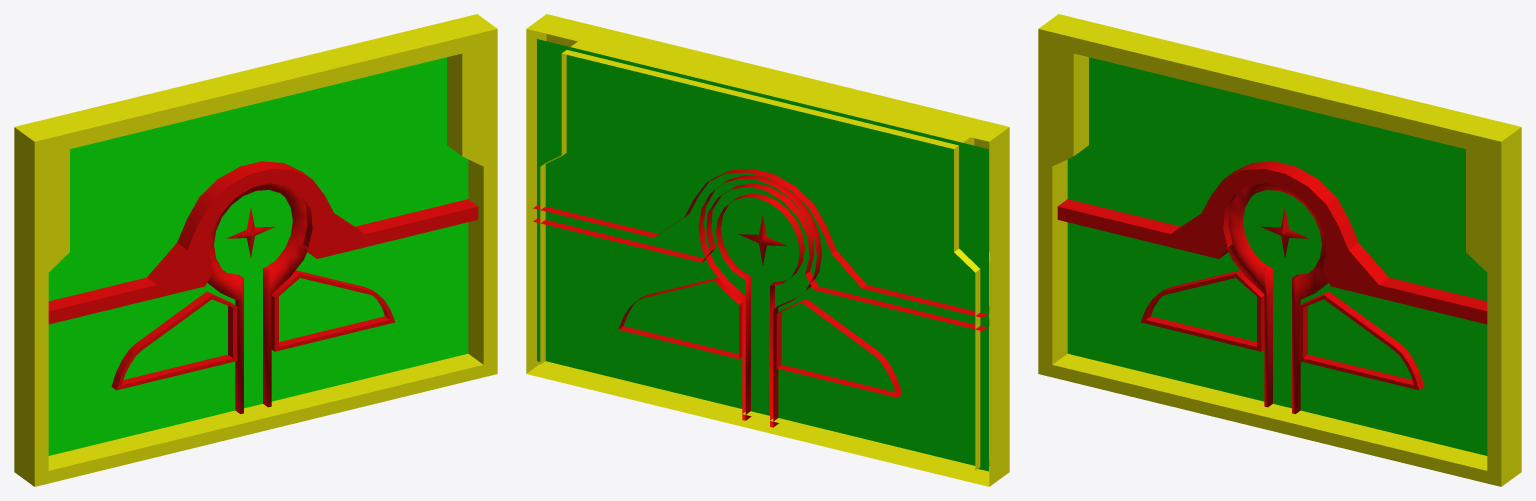
The model's file is hero_Piltover_Wall_Window.fbx.fbx.
3 renders of one model, left to right at view 1: azimuth 30°, elevation 25°; view 2: azimuth 150°, elevation 25°; view 3: azimuth 330°, elevation 25°, orthographic.
Parts seen in each view (by area): view 1: WindowPanel, Frame2, Frame5, Frame3, Frame4; view 2: WindowPanel, Frame2, Frame5, Frame4, Frame3; view 3: WindowPanel, Frame2, Frame5, Frame3, Frame4.
Boxes of the visible parts, bbox=[...] form: WindowPanel: bbox=[48, 57, 468, 455]; Frame2: bbox=[14, 14, 497, 486]; Frame5: bbox=[48, 161, 478, 324]; Frame3: bbox=[111, 270, 394, 390]; Frame4: bbox=[207, 183, 307, 413]; WindowPanel: bbox=[537, 39, 988, 471]; Frame2: bbox=[526, 14, 1009, 486]; Frame5: bbox=[533, 168, 989, 331]; Frame4: bbox=[698, 175, 821, 427]; Frame3: bbox=[618, 277, 902, 397]; WindowPanel: bbox=[1067, 57, 1487, 455]; Frame2: bbox=[1038, 14, 1521, 486]; Frame5: bbox=[1057, 161, 1487, 324]; Frame3: bbox=[1141, 270, 1424, 390]; Frame4: bbox=[1228, 183, 1328, 413].
Bounding box in the file's own units: 13.17 × 9.38 × 1.
